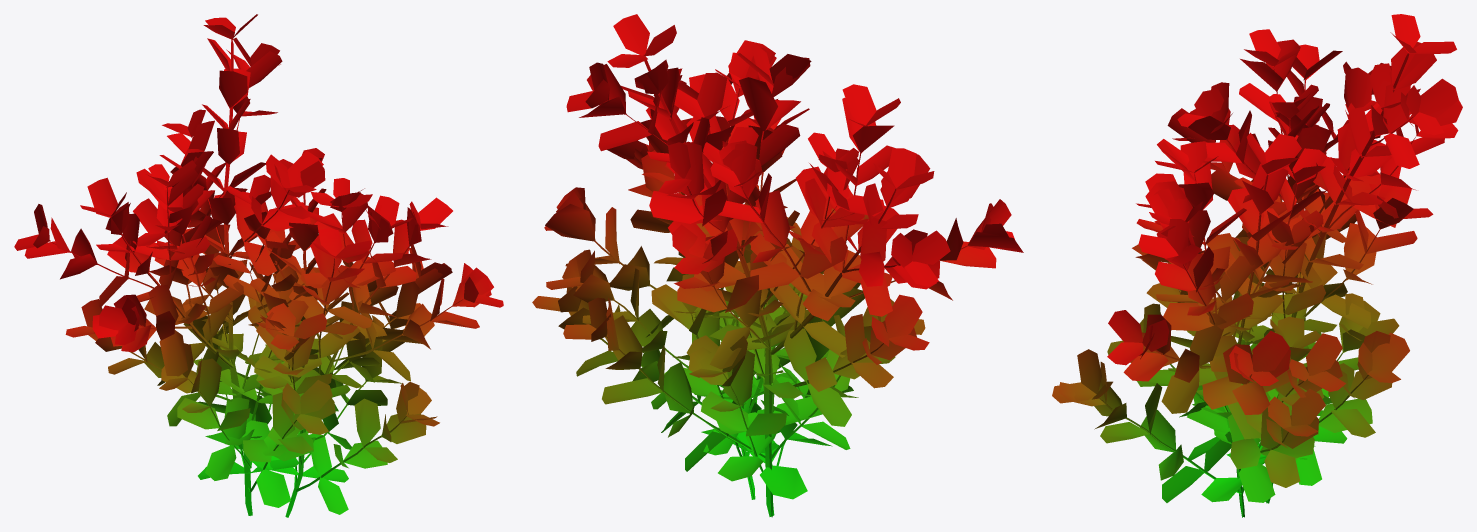
File: Var10_LOD4.fbx
The picture shows the model from 3 angles, left to right: view 1: azimuth 30°, elevation 25°; view 2: azimuth 150°, elevation 25°; view 3: azimuth 270°, elevation 25°; orthographic projection. The views are drawn at different scales.
Visible parts, largest first — view 1: _u97h_Var10_LOD4; view 2: _u97h_Var10_LOD4; view 3: _u97h_Var10_LOD4.
Part boxes in pixels (x1,y1,x2,y2): _u97h_Var10_LOD4: (14, 14, 503, 517); _u97h_Var10_LOD4: (532, 14, 1023, 517); _u97h_Var10_LOD4: (1052, 14, 1462, 517).
Size of the model in its own units: 15.74 by 17.78 by 13.15.
